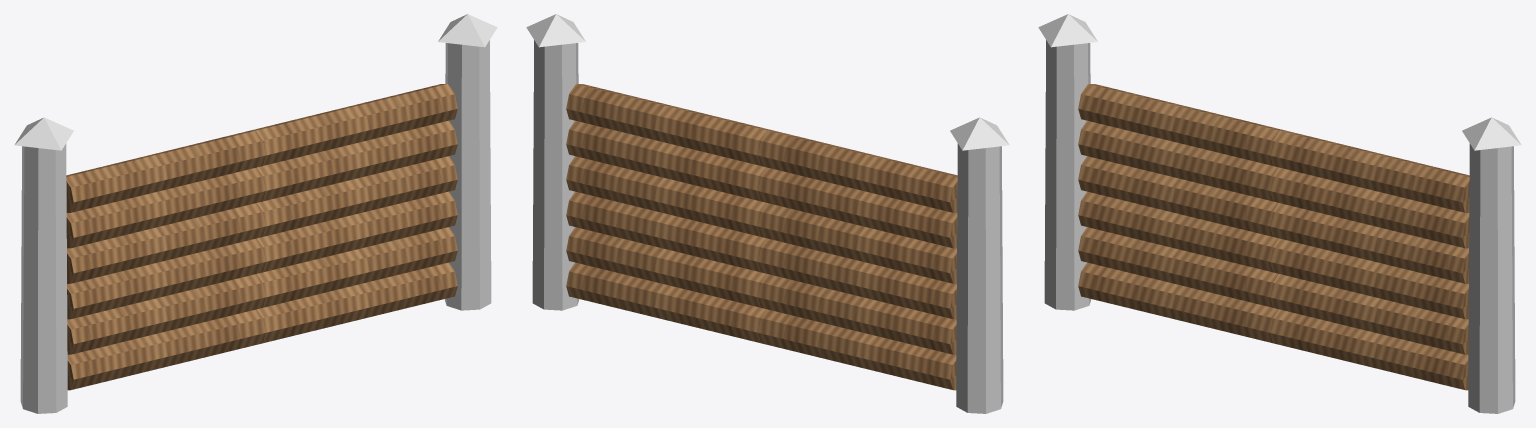
File: Western_Log_Wall_Segment.fbx
3 views of the same model, side by side, from view 1: azimuth 30°, elevation 25°; view 2: azimuth 150°, elevation 25°; view 3: azimuth 330°, elevation 25° (orthographic).
Visible parts, largest first — view 1: Western_Log_Wall_Segment, Western_Log_Wall_Segment_Post_L, Western_Log_Wall_Segment_Post_R; view 2: Western_Log_Wall_Segment, Western_Log_Wall_Segment_Post_L, Western_Log_Wall_Segment_Post_R; view 3: Western_Log_Wall_Segment, Western_Log_Wall_Segment_Post_R, Western_Log_Wall_Segment_Post_L.
Part boxes in pixels (x1,y1,x2,y2): Western_Log_Wall_Segment: (66,84,457,390); Western_Log_Wall_Segment_Post_L: (14,117,73,413); Western_Log_Wall_Segment_Post_R: (438,14,497,310); Western_Log_Wall_Segment: (566,84,957,390); Western_Log_Wall_Segment_Post_L: (950,117,1009,413); Western_Log_Wall_Segment_Post_R: (526,14,585,310); Western_Log_Wall_Segment: (1078,84,1469,390); Western_Log_Wall_Segment_Post_R: (1462,117,1521,413); Western_Log_Wall_Segment_Post_L: (1038,14,1097,310).
Bounding box in the file's own units: 3.42 × 1.94 × 0.4243.
2 materials, 1 textured.
